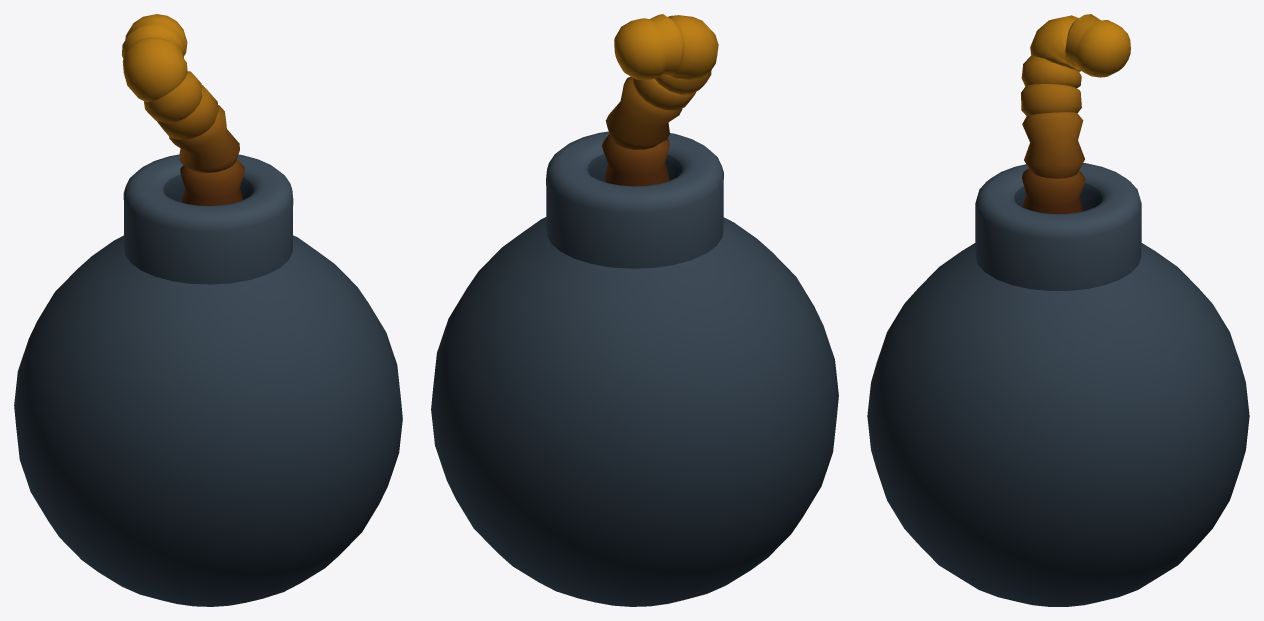
The model's file is Bomb_V1_0.fbx.
3 renders of one model, left to right at view 1: azimuth 30°, elevation 25°; view 2: azimuth 150°, elevation 25°; view 3: azimuth 270°, elevation 25°, orthographic. The views are drawn at different scales.
Visible parts, largest first — view 1: Bomb_V1_0; view 2: Bomb_V1_0; view 3: Bomb_V1_0.
Part boxes in pixels (<box>): Bomb_V1_0: <box>14,14,402,606</box>; Bomb_V1_0: <box>431,14,838,606</box>; Bomb_V1_0: <box>867,14,1249,606</box>.
Size of the model in its own units: 0.3403 by 0.547 by 0.3428.
